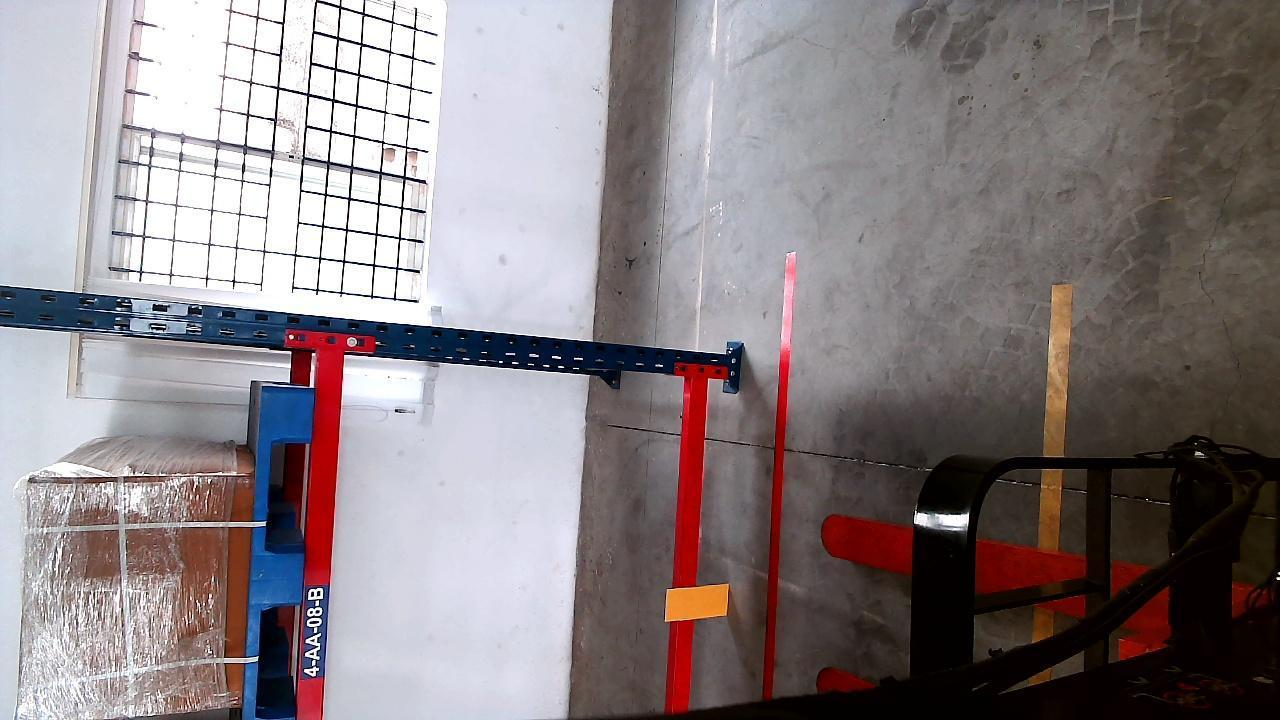h_rack: (298, 348, 346, 720), (673, 352, 707, 708)
orange_strip: (666, 584, 729, 620)
red_line: (759, 248, 797, 701)
small_pallet: (243, 390, 311, 720)
yellow_line: (1038, 285, 1072, 571)
